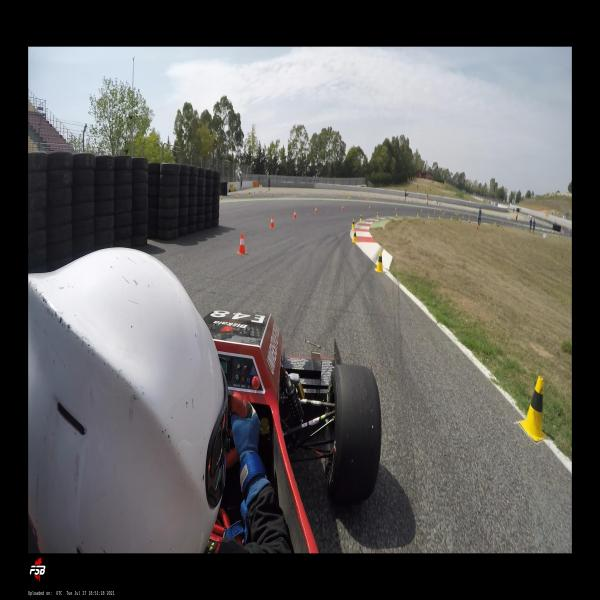orange_cone: (237, 233, 247, 255), (270, 216, 276, 228), (292, 209, 298, 219), (220, 195, 224, 202), (315, 206, 318, 214), (341, 204, 344, 210), (368, 205, 371, 210), (476, 224, 478, 230), (236, 194, 238, 199), (272, 192, 274, 196), (250, 194, 252, 198), (264, 193, 265, 197)
yellow_cone: (518, 376, 548, 441), (374, 251, 384, 273), (352, 228, 358, 242), (351, 219, 355, 228), (358, 214, 362, 221), (376, 212, 379, 219), (395, 211, 398, 217), (438, 214, 441, 219), (497, 223, 500, 227), (427, 214, 430, 218), (493, 222, 495, 227), (468, 218, 470, 223), (458, 217, 460, 221), (450, 216, 452, 220), (416, 213, 418, 217)
